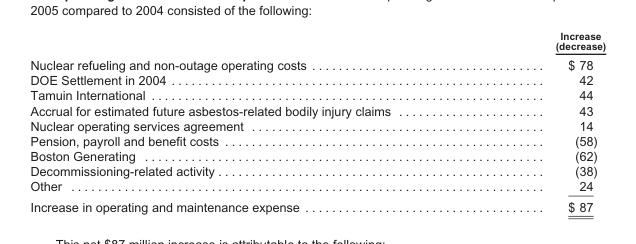table: (29, 29, 605, 213)
table column: (29, 29, 472, 213), (472, 29, 605, 213)
table column header: (29, 29, 605, 54)
table row: (29, 29, 605, 54), (29, 54, 605, 72), (29, 195, 605, 213), (29, 178, 605, 195), (29, 147, 605, 163), (29, 72, 605, 87), (29, 87, 605, 102), (29, 102, 605, 117), (29, 117, 605, 132), (29, 132, 605, 147), (29, 163, 605, 178)
